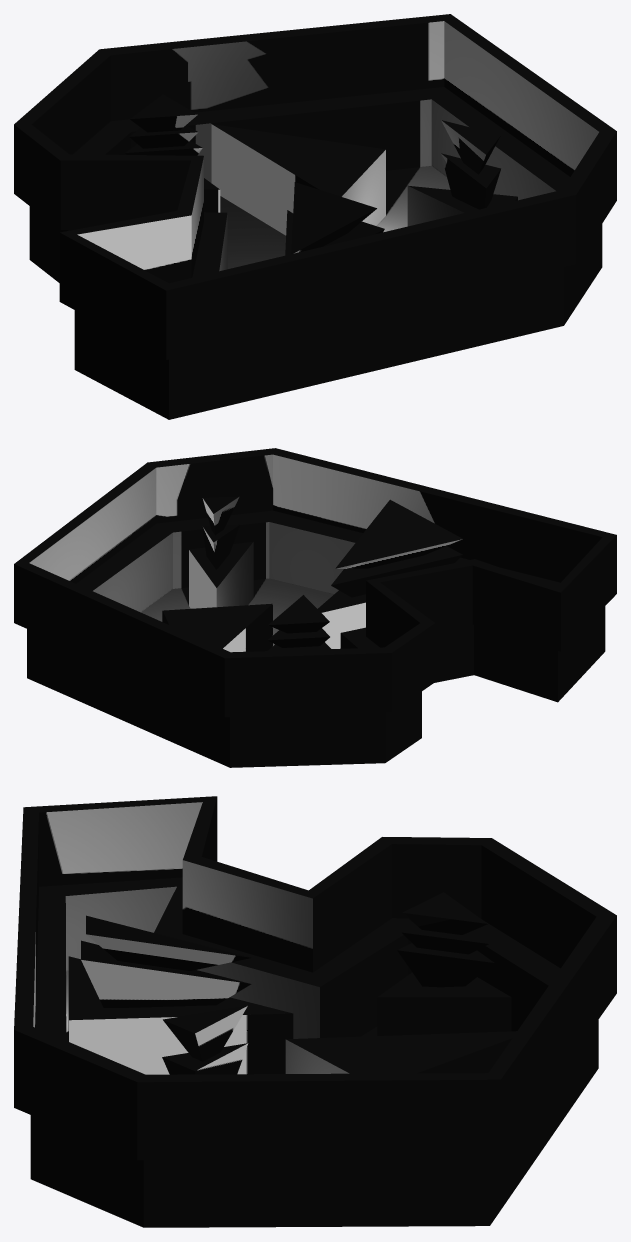
Rendered from level3_2.fbx.
3 views of the same model, one above another, from view 1: azimuth 30°, elevation 25°; view 2: azimuth 150°, elevation 25°; view 3: azimuth 270°, elevation 25° (orthographic). The views are drawn at different scales.
Parts seen in each view (by area): view 1: 3-2_upper_wall, 3-2_lower_wall, 3-2_pillar_greyblue, 3-2_floor, 3-2_pillar_purple_top, 3-2_pillar_skyblue_top, 3-2_pillar_darkblue_top, 3-2_pillar_skyblue; view 2: 3-2_upper_wall, 3-2_lower_wall, 3-2_pillar_purple_top, 3-2_pillar_greyblue, 3-2_pillar_skyblue, 3-2_floor, 3-2_pillar_darkblue_top, 3-2_pillar_skyblue_top, 3-2_pillar_purple; view 3: 3-2_upper_wall, 3-2_lower_wall, 3-2_pillar_purple, 3-2_pillar_purple_top, 3-2_pillar_greyblue, 3-2_pillar_darkblue, 3-2_pillar_darkblue_top, 3-2_pillar_skyblue_top.
Boxes of the visible parts, x1=… form: 3-2_upper_wall: x1=14, y1=14, x2=616, y2=359; 3-2_lower_wall: x1=29, y1=87, x2=602, y2=419; 3-2_pillar_greyblue: x1=211, y1=124, x2=385, y2=235; 3-2_floor: x1=220, y1=166, x2=450, y2=268; 3-2_pillar_purple_top: x1=291, y1=182, x2=384, y2=253; 3-2_pillar_skyblue_top: x1=440, y1=120, x2=500, y2=209; 3-2_pillar_darkblue_top: x1=125, y1=94, x2=202, y2=155; 3-2_pillar_skyblue: x1=407, y1=185, x2=517, y2=226; 3-2_upper_wall: x1=14, y1=448, x2=616, y2=717; 3-2_lower_wall: x1=27, y1=510, x2=605, y2=767; 3-2_pillar_purple_top: x1=331, y1=499, x2=462, y2=597; 3-2_pillar_greyblue: x1=162, y1=603, x2=272, y2=652; 3-2_pillar_skyblue: x1=189, y1=541, x2=253, y2=608; 3-2_floor: x1=141, y1=578, x2=333, y2=645; 3-2_pillar_darkblue_top: x1=267, y1=595, x2=330, y2=650; 3-2_pillar_skyblue_top: x1=202, y1=496, x2=239, y2=569; 3-2_pillar_purple: x1=318, y1=590, x2=365, y2=648; 3-2_upper_wall: x1=14, y1=796, x2=616, y2=1160; 3-2_lower_wall: x1=30, y1=877, x2=598, y2=1227; 3-2_pillar_purple: x1=68, y1=956, x2=293, y2=1074; 3-2_pillar_purple_top: x1=81, y1=915, x2=251, y2=1007; 3-2_pillar_greyblue: x1=285, y1=1031, x2=516, y2=1073; 3-2_pillar_darkblue: x1=377, y1=972, x2=511, y2=1035; 3-2_pillar_darkblue_top: x1=397, y1=892, x2=494, y2=987; 3-2_pillar_skyblue_top: x1=162, y1=1005, x2=248, y2=1074.
Size of the model in its own units: 17.59 by 4.63 by 15.67.
10 materials, 10 textured.
